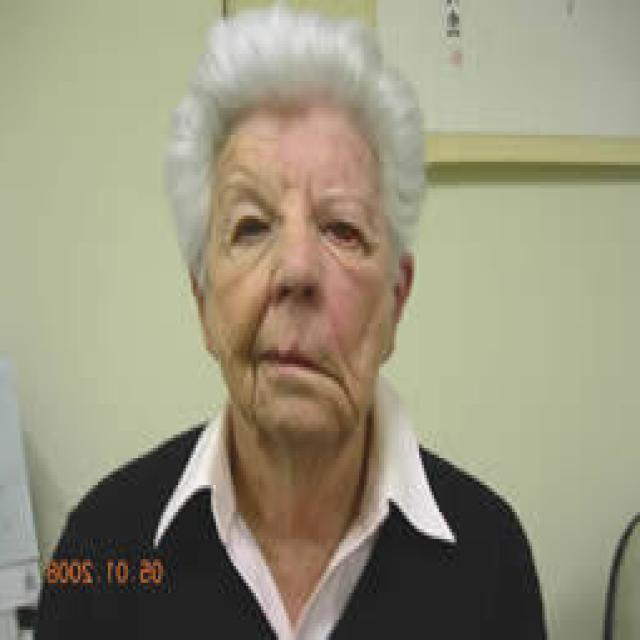stroke_face: (175, 50, 414, 438)
